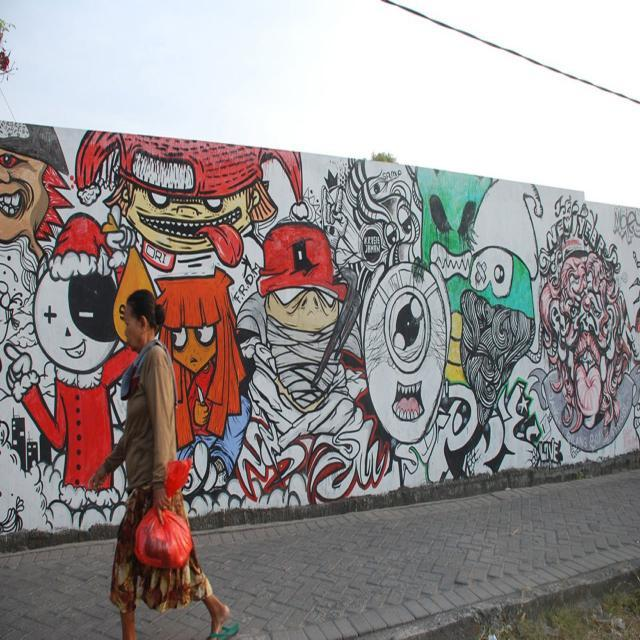-: (0, 122, 640, 531)
